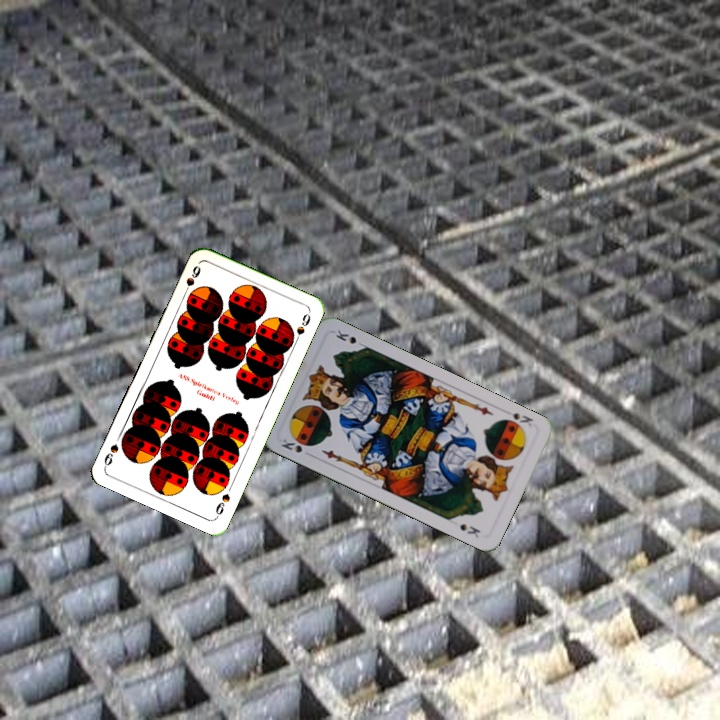S9: (179, 261, 203, 298), (211, 489, 233, 520)
SK: (277, 435, 315, 459), (508, 409, 536, 429)
